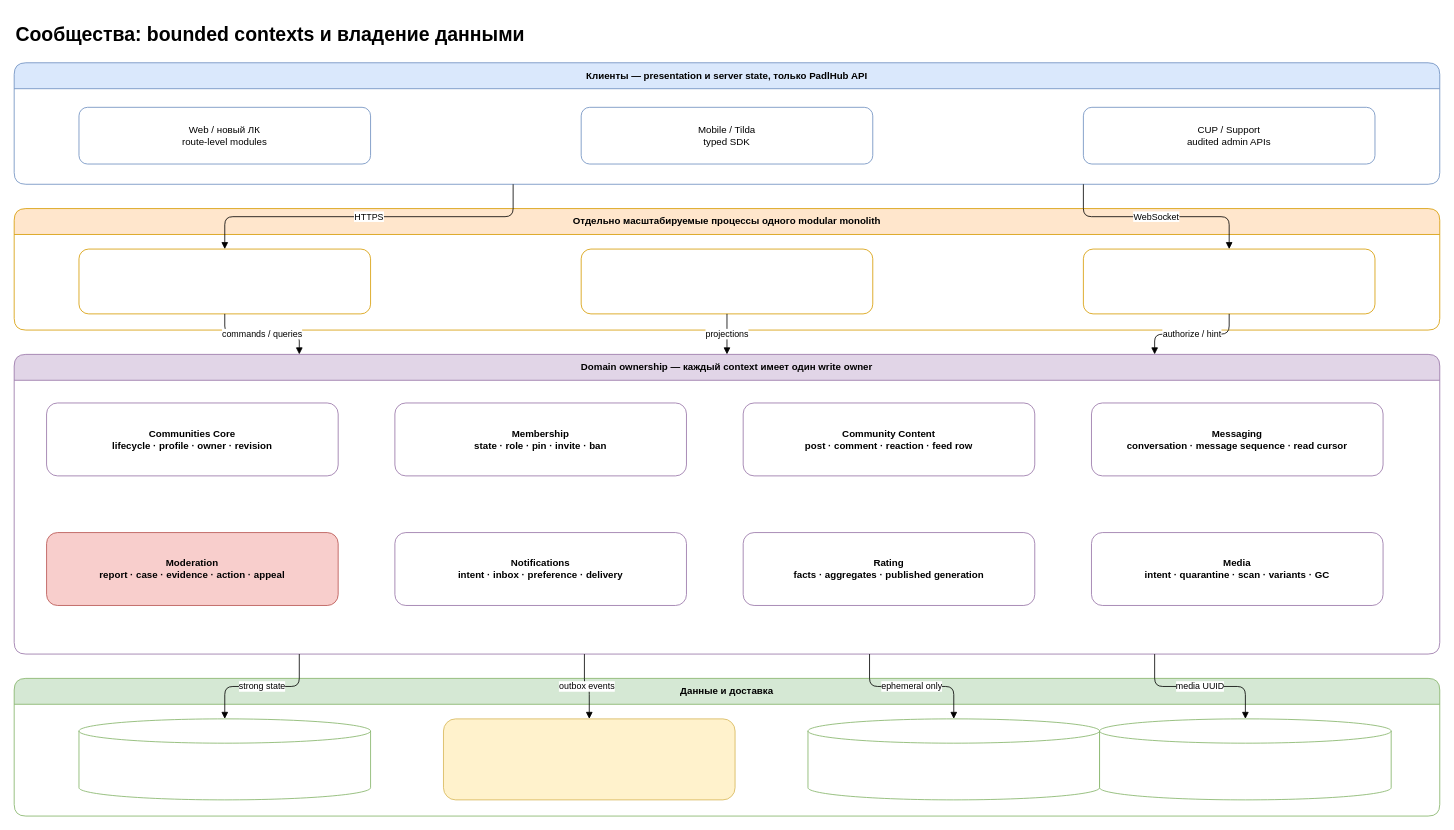
Image size: 1454x830. Some labels were removed from this diagram. The centre of each missing label's shape, as x and y in pixels:
"apps/api JWT · tenant · capability commands / queries" goes at (224,281).
"apps/realtime authorized topics sequence resume" goes at (1229,281).
"apps/worker outbox · projections media / notifications" goes at (726,281).
"PostgreSQL business truth · RLS audit · outbox · inbox" goes at (224,759).
"Private S3 / CDN media objects and variants" goes at (1245,759).
"RabbitMQ at-least-once · retry · DLQ" goes at (589,759).
"Redis cache · rate limit · presence · routing" goes at (953,759).
